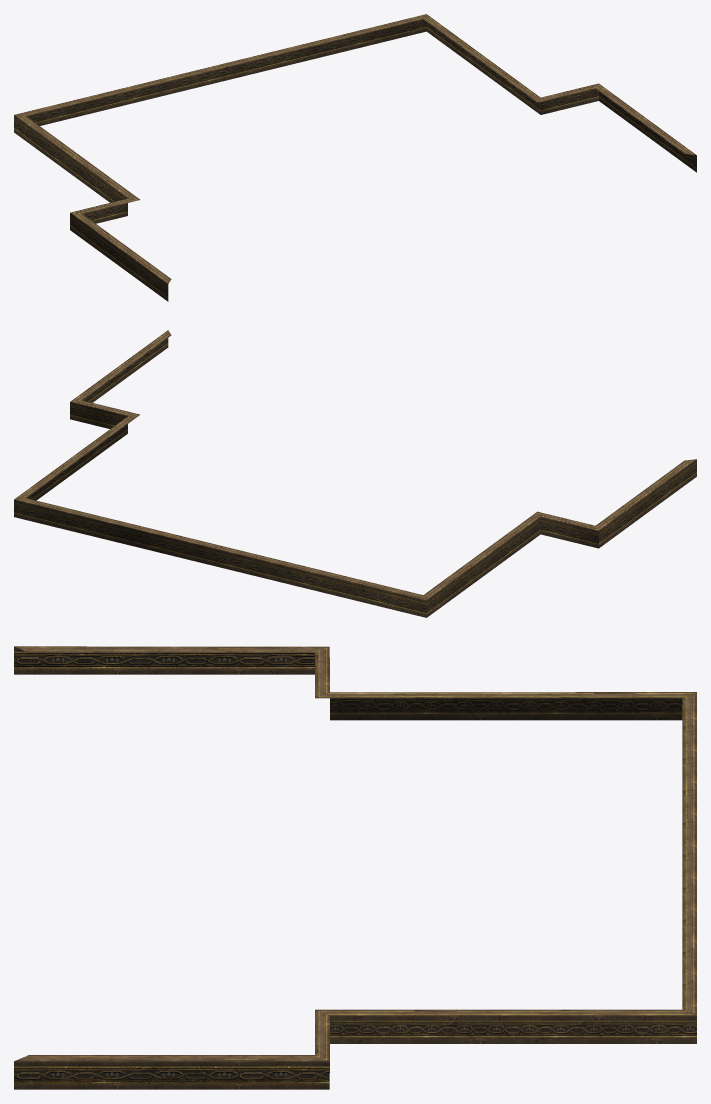
The model's file is A03_battle_b.FBX.
3 views of the same model, one above another, from view 1: azimuth 30°, elevation 25°; view 2: azimuth 150°, elevation 25°; view 3: azimuth 270°, elevation 25° (orthographic). The views are drawn at different scales.
Parts seen in each view (by area): view 1: A03_battle_b; view 2: A03_battle_b; view 3: A03_battle_b.
Part boxes in pixels (x1=…): A03_battle_b: x1=14, y1=14, x2=696, y2=301; A03_battle_b: x1=14, y1=330, x2=696, y2=617; A03_battle_b: x1=14, y1=646, x2=696, y2=1089.
Bounding box in the file's own units: 45.07 × 1.44 × 31.34.
